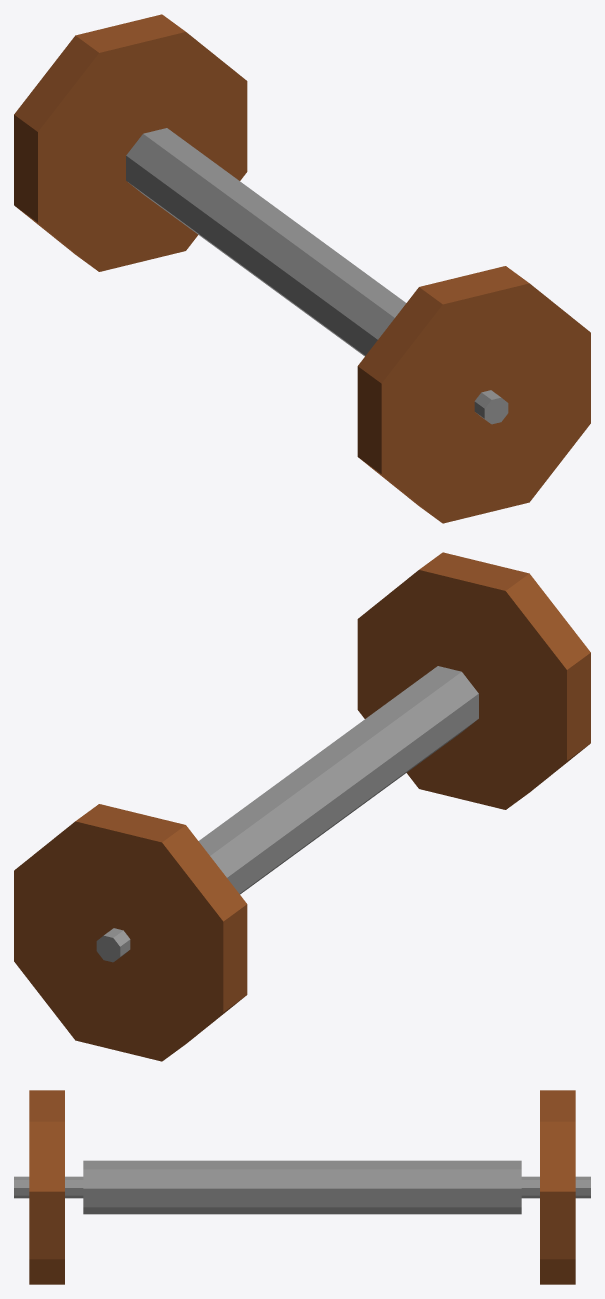
Rendered from WheelsBig.fbx.
3 renders of one model, top to bottom at view 1: azimuth 30°, elevation 25°; view 2: azimuth 150°, elevation 25°; view 3: azimuth 270°, elevation 25°, orthographic. The views are drawn at different scales.
Parts seen in each view (by area): view 1: Cylinder.018; view 2: Cylinder.018; view 3: Cylinder.018.
Boxes of the visible parts, x1,y1,x2,y2 form: Cylinder.018: [14, 14, 590, 523]; Cylinder.018: [14, 552, 590, 1061]; Cylinder.018: [14, 1090, 590, 1284].
Size of the model in its own units: 236 by 236 by 758.
